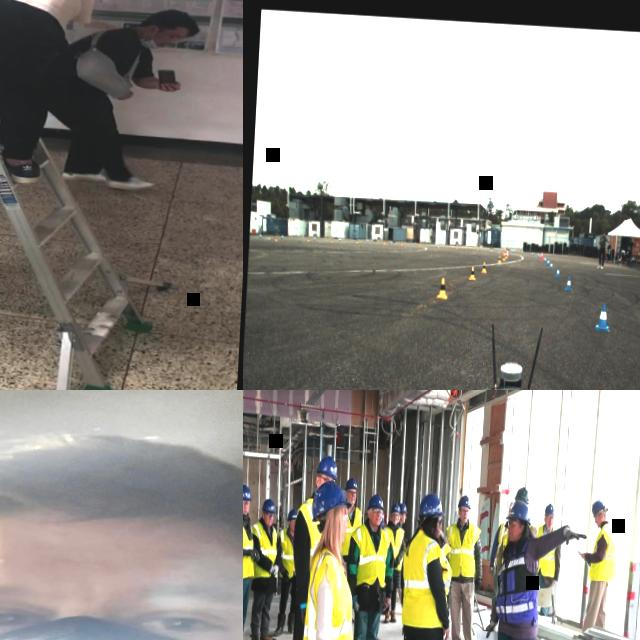Hardhat: (311, 478, 353, 525), (418, 491, 447, 517), (504, 500, 532, 524), (316, 454, 340, 480), (366, 492, 386, 511), (591, 499, 607, 518), (514, 486, 530, 505), (262, 498, 278, 514), (344, 477, 359, 492), (458, 494, 472, 509), (544, 502, 558, 515), (286, 507, 298, 522), (243, 483, 253, 500), (390, 501, 401, 513), (398, 502, 408, 514), (508, 498, 516, 508), (381, 511, 385, 522), (276, 504, 282, 510)
Mask: (139, 27, 160, 50)
NO-Hardhat: (0, 423, 243, 592), (160, 7, 200, 32), (630, 238, 632, 241), (622, 247, 624, 250), (619, 250, 621, 253), (602, 230, 604, 233)
NO-Mask: (508, 529, 520, 541), (371, 515, 382, 525), (342, 526, 347, 543), (460, 514, 468, 523), (545, 520, 553, 528), (347, 496, 355, 504), (264, 518, 272, 526), (243, 505, 249, 515), (436, 526, 440, 538), (596, 517, 600, 528), (392, 517, 398, 523), (402, 517, 406, 523), (290, 525, 294, 531)
NO-Safety Vest: (65, 28, 137, 100), (599, 235, 605, 247), (628, 249, 632, 256), (629, 241, 632, 249)
Person: (0, 414, 243, 640), (43, 1, 202, 192), (0, 0, 103, 186), (477, 498, 589, 640), (288, 475, 364, 640), (283, 452, 338, 640), (391, 489, 457, 640), (340, 490, 397, 640), (440, 492, 487, 640), (574, 498, 620, 635), (246, 497, 285, 640), (494, 482, 542, 576), (530, 500, 564, 616), (272, 505, 300, 637), (378, 501, 407, 625), (243, 481, 264, 640), (487, 496, 515, 612), (339, 476, 366, 572), (388, 501, 408, 613), (597, 229, 607, 269), (272, 504, 284, 530), (620, 245, 632, 265), (616, 249, 622, 260), (629, 238, 634, 250), (606, 247, 609, 261), (622, 247, 626, 254)
Safety Cone: (594, 302, 610, 331), (436, 277, 449, 299), (565, 276, 573, 291), (469, 266, 477, 280), (481, 261, 487, 273), (555, 267, 561, 277), (540, 250, 544, 259), (550, 261, 554, 269), (498, 255, 502, 263), (546, 258, 550, 265), (502, 253, 505, 260), (507, 249, 509, 258), (275, 235, 278, 241), (259, 233, 262, 238), (505, 253, 508, 258), (307, 237, 310, 242), (418, 241, 421, 246), (356, 239, 359, 244), (331, 237, 334, 242), (281, 234, 284, 239), (544, 256, 546, 262), (389, 240, 392, 244), (400, 242, 403, 246), (540, 253, 542, 258), (503, 249, 505, 254), (455, 243, 457, 248), (437, 242, 439, 247), (384, 240, 386, 245), (339, 237, 341, 242), (314, 235, 316, 240), (605, 245, 607, 250), (538, 252, 540, 256), (532, 251, 534, 255), (522, 249, 524, 253), (512, 248, 514, 252), (498, 248, 500, 252), (490, 247, 492, 251), (476, 246, 478, 250), (367, 238, 369, 242), (606, 248, 608, 252), (505, 249, 506, 254)
Safety Vest: (299, 544, 361, 640), (400, 528, 454, 629), (494, 533, 544, 624), (348, 521, 392, 586), (294, 494, 326, 576), (444, 519, 482, 578), (587, 522, 621, 582), (249, 520, 280, 580), (502, 523, 538, 566), (533, 523, 559, 574), (275, 527, 298, 578), (380, 524, 406, 569), (341, 506, 364, 556), (243, 514, 257, 584), (493, 519, 508, 575), (399, 526, 406, 560), (441, 541, 452, 556), (275, 513, 284, 531)
vehicle: (246, 308, 640, 390)
